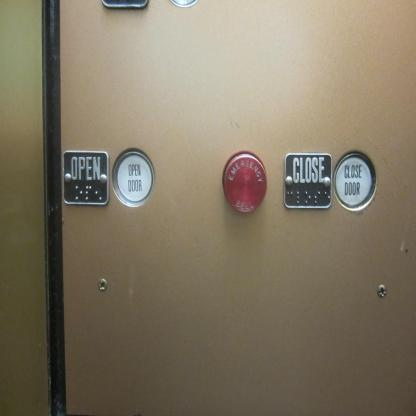text: (220, 150, 270, 214)
text_close: (333, 148, 379, 216)
text_close door: (282, 148, 333, 212)
text_open door: (62, 147, 110, 209)
text_open hold: (110, 145, 157, 209)
